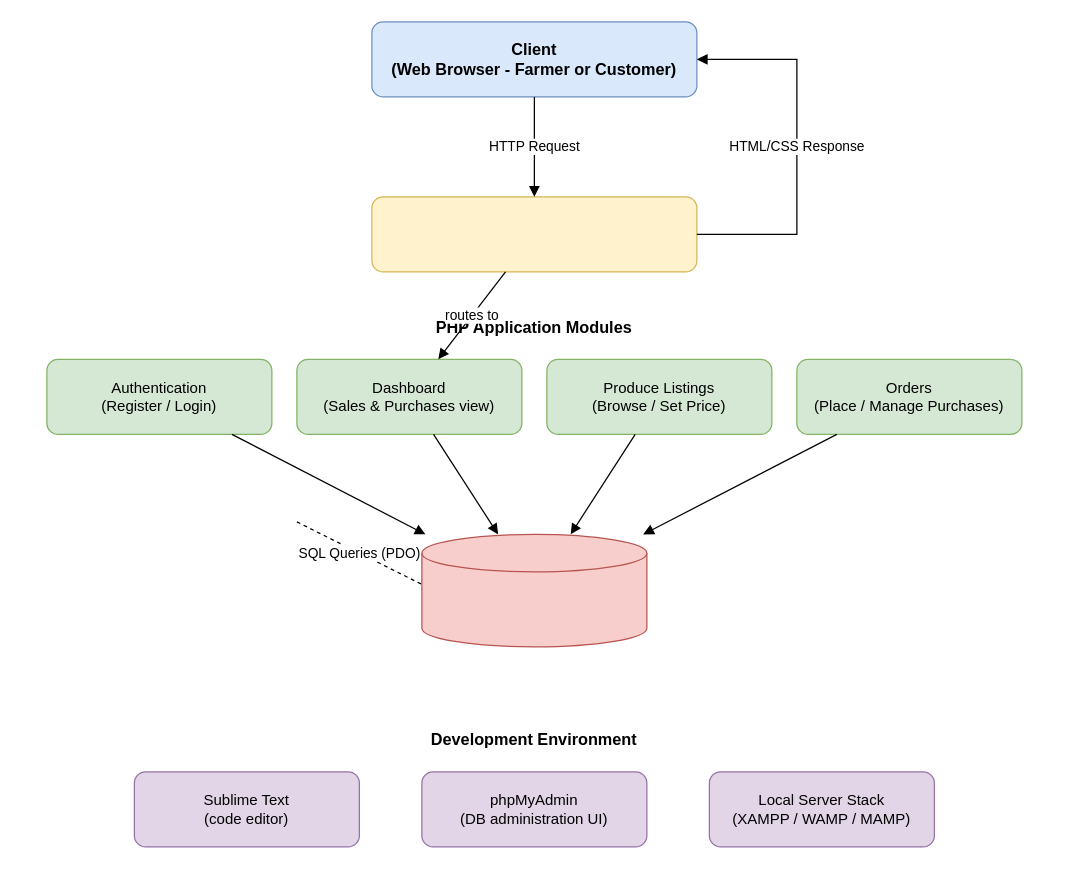
Some shapes in this 1068 by 869 pixel diagram are drawn without their labels. Here are the shapes that lost their labels. From the top down, the box of each, then its label:
(371, 196, 697, 272): Web Server (Apache / PHP built-in server)
(421, 533, 647, 647): MySQL Database (farmers_marketplace)
